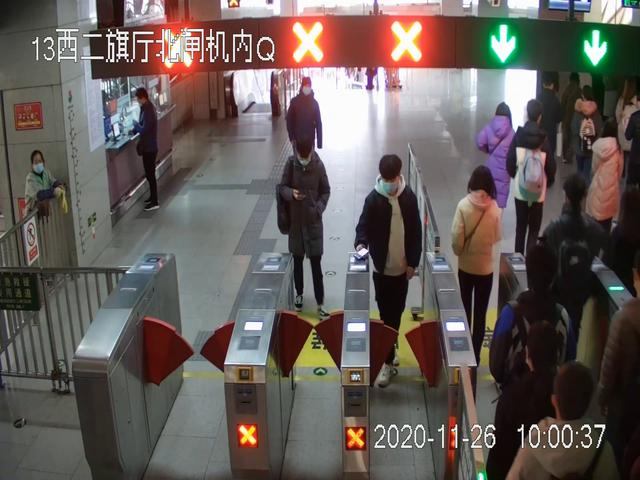person: (489, 249, 574, 480), (354, 154, 422, 389), (507, 364, 618, 480), (276, 130, 338, 316), (453, 167, 501, 381), (506, 100, 556, 269), (586, 119, 624, 259), (475, 101, 514, 229), (23, 150, 58, 278), (287, 76, 323, 185), (133, 87, 162, 212)
